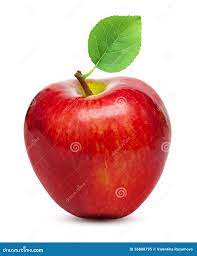apple: (25, 74, 171, 219)
